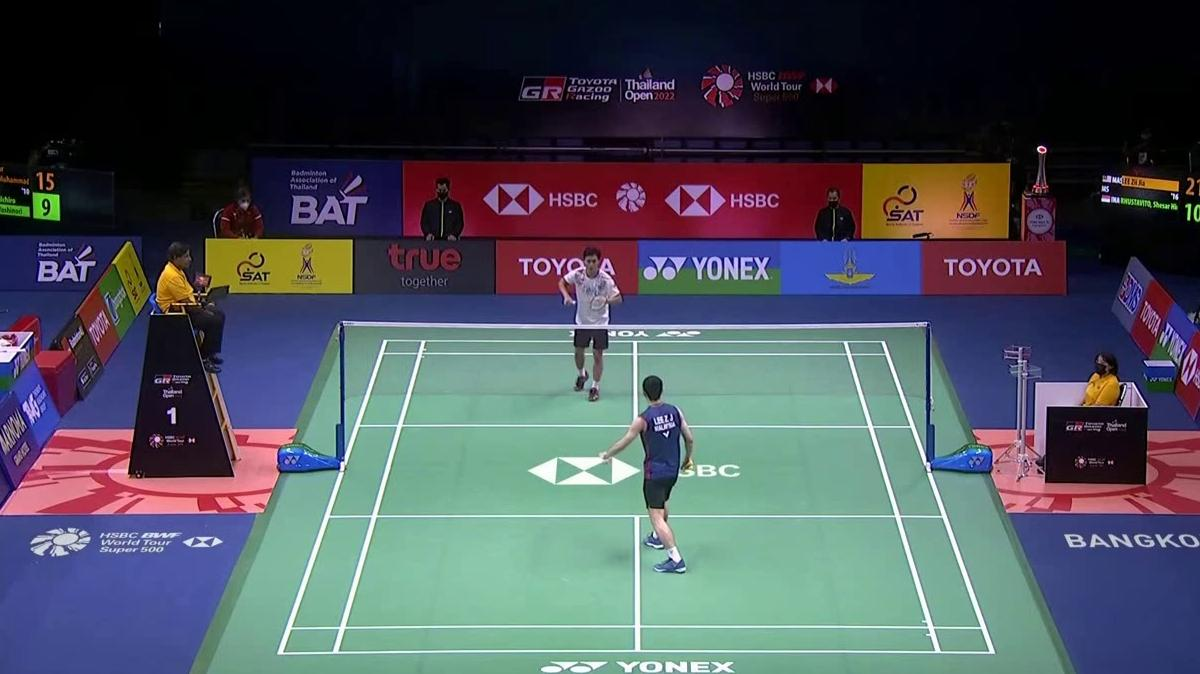racket: (564, 295, 606, 311)
shuttle: (598, 451, 609, 462)
